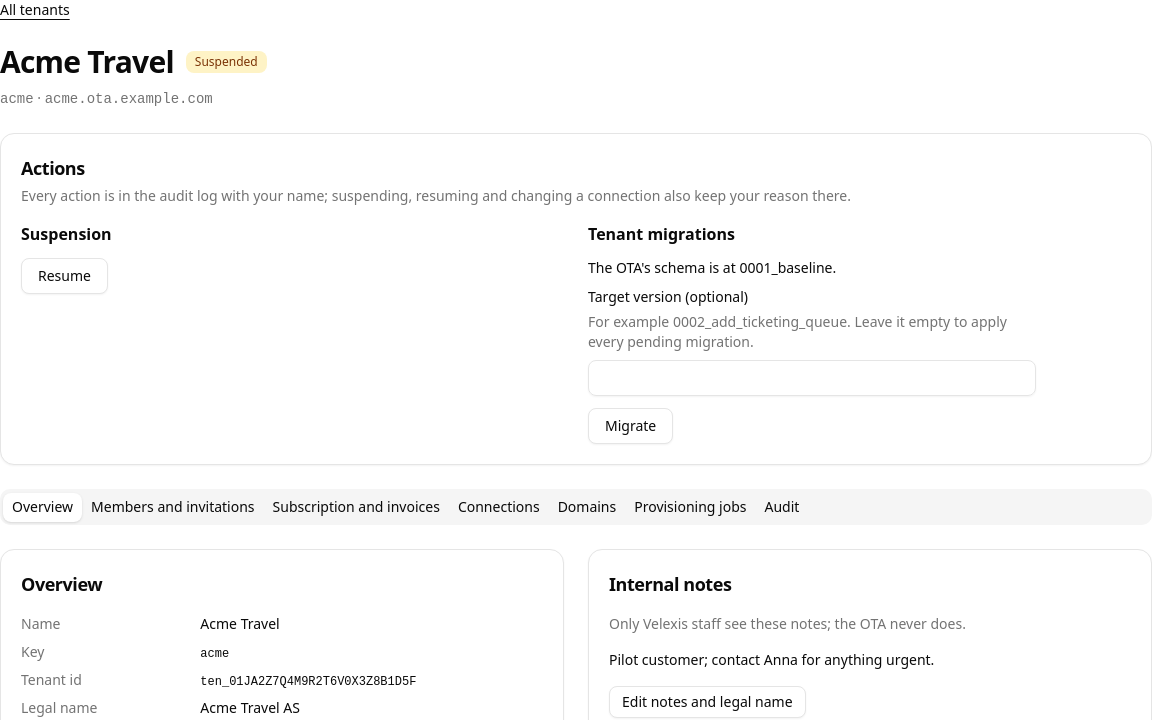
suspend and resume (PADR-0014, PF-82) › explains a billing suspension, and words the conflicts the API answers, never with its own text
The width and height of the screenshot is (1152, 720).
Click the button "Resume" at (64, 276), box [21,258,108,294]
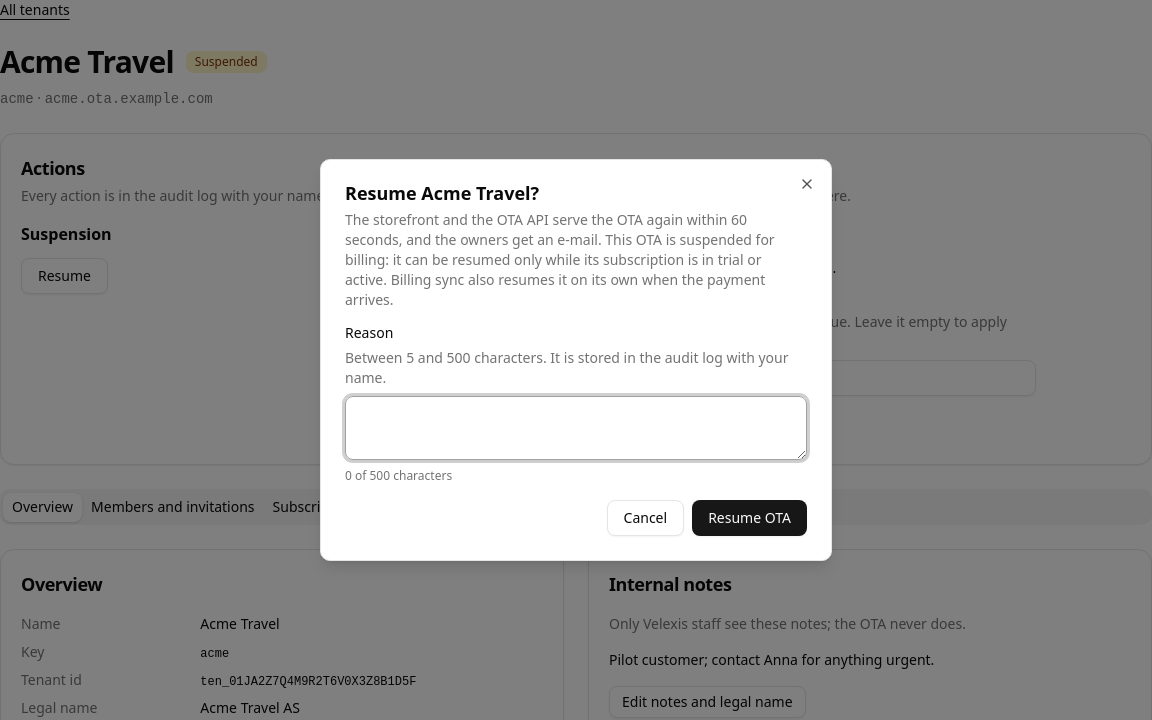
Result: the dialog "Resume Acme Travel?" shows "This OTA is suspended for billing: it can be resumed only while its subscription is in trial or active. Billing sync also resumes it on its own when the payment" at [345,210,775,309]
Type "Paid by bank transfer." into the text box labelled "Reason" at (576, 428), box [345,396,807,460]
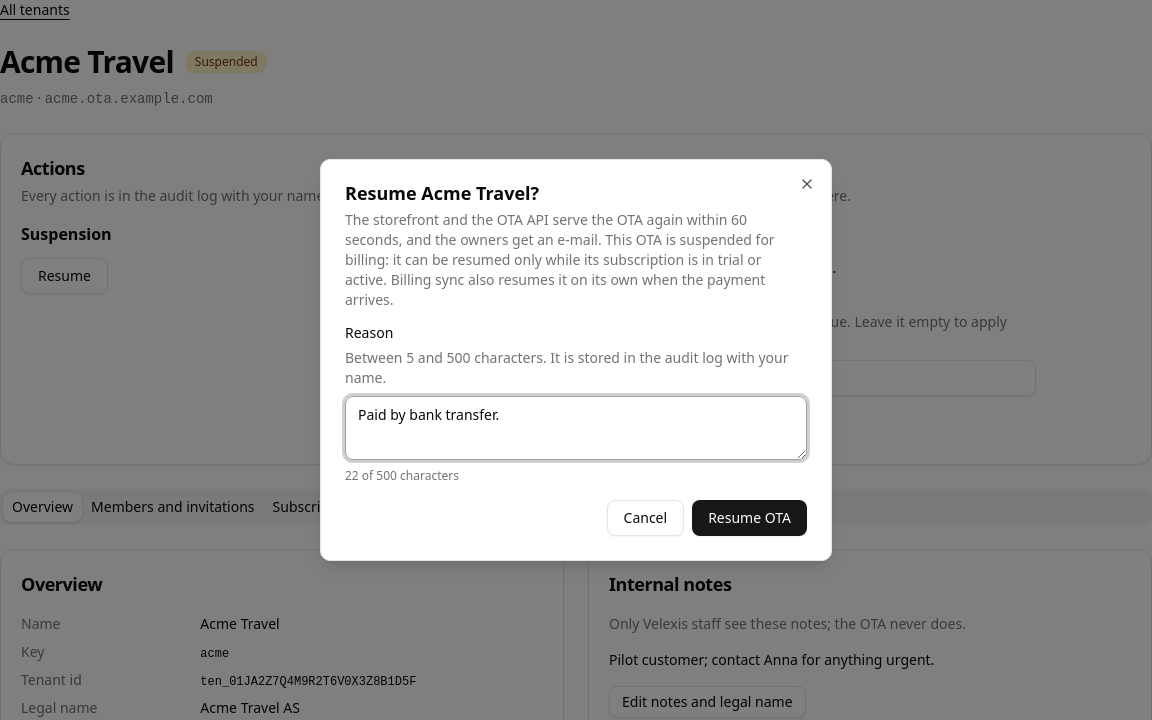
Submit the form named "Resume OTA", box [345,326,807,536]
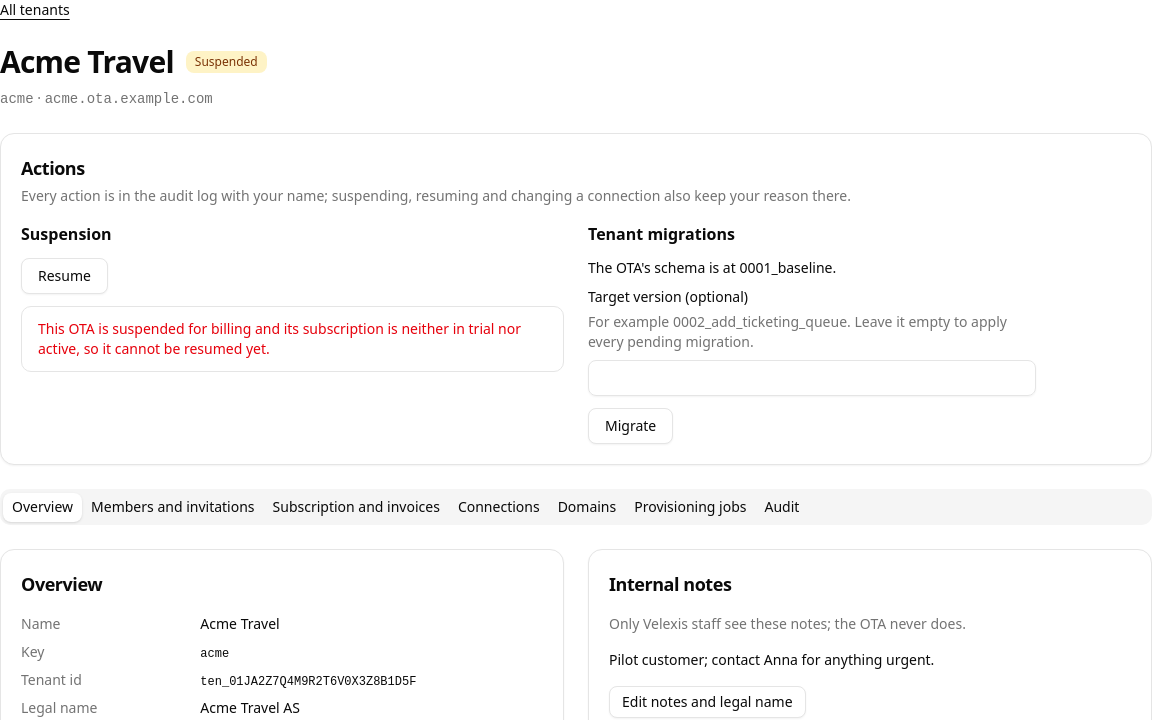
Result: the message shows "This OTA is suspended for billing and its subscription is neither in trial nor active, so it cannot be resumed yet." at [38,319,521,358]
